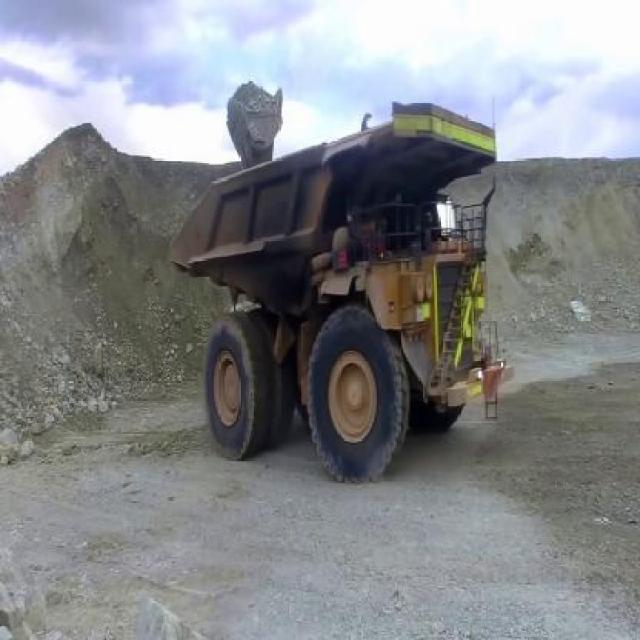dump_truck: (169, 101, 514, 484)
